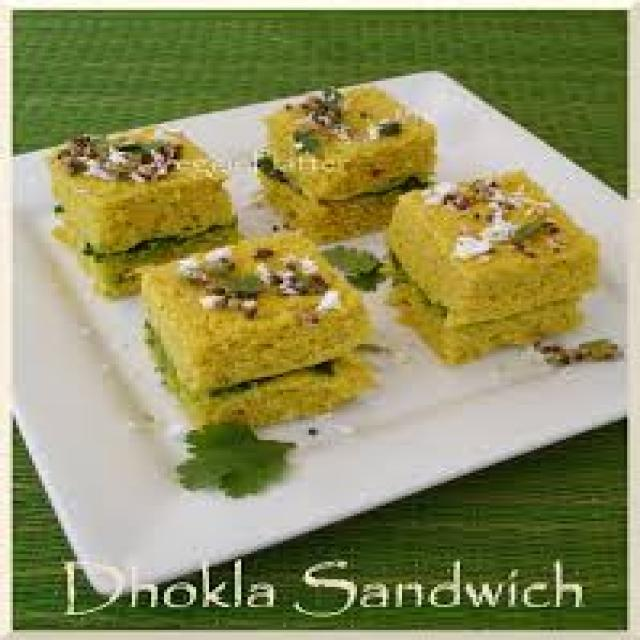DHOKLA: (136, 217, 355, 390), (396, 169, 596, 332), (53, 118, 234, 254), (258, 85, 429, 213), (142, 341, 352, 428), (378, 274, 588, 355), (256, 171, 433, 247)
